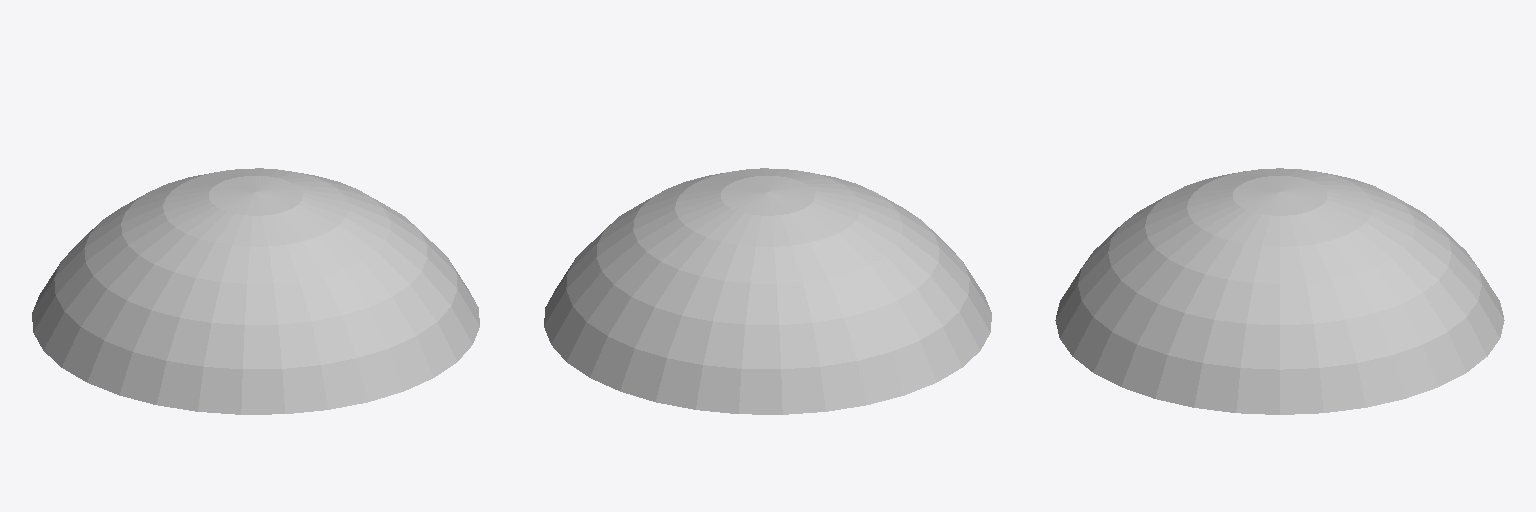
Rendered from dome.obj.
The picture shows the model from 3 angles: view 1: azimuth 30°, elevation 25°; view 2: azimuth 150°, elevation 25°; view 3: azimuth 270°, elevation 25°; orthographic projection.
Visible parts, largest first — view 1: Dome; view 2: Dome; view 3: Dome.
Boxes of the visible parts, <box> form: Dome: <box>32,168,479,414</box>; Dome: <box>544,168,991,414</box>; Dome: <box>1055,168,1504,414</box>.
Size of the model in its own units: 1.98 by 0.6235 by 1.98.